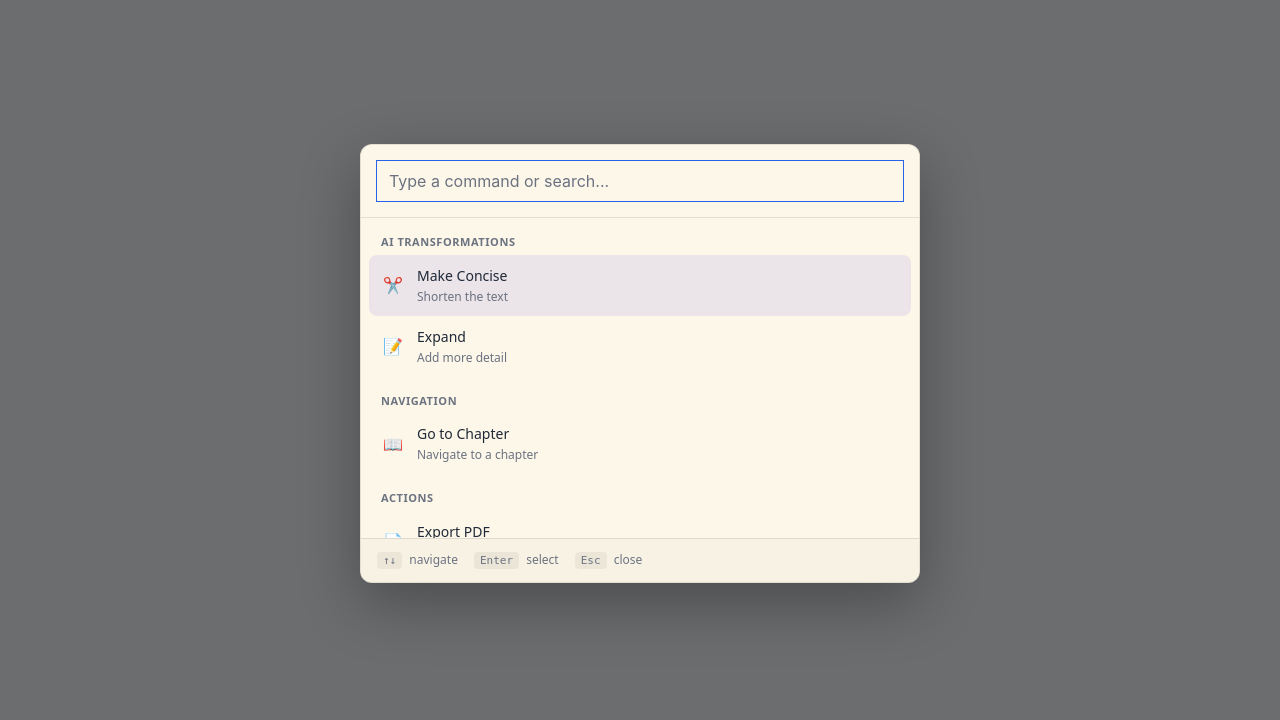
Scenario: CommandPalette › AC 5.2.5: Navigation Commands › shows chapters when searching for 'chapter'
The width and height of the screenshot is (1280, 720).
Type "chapter" into the dropdown with placeholder "Type a command or search...". click: {"x": 640, "y": 181}
box: [377,161,903,201]
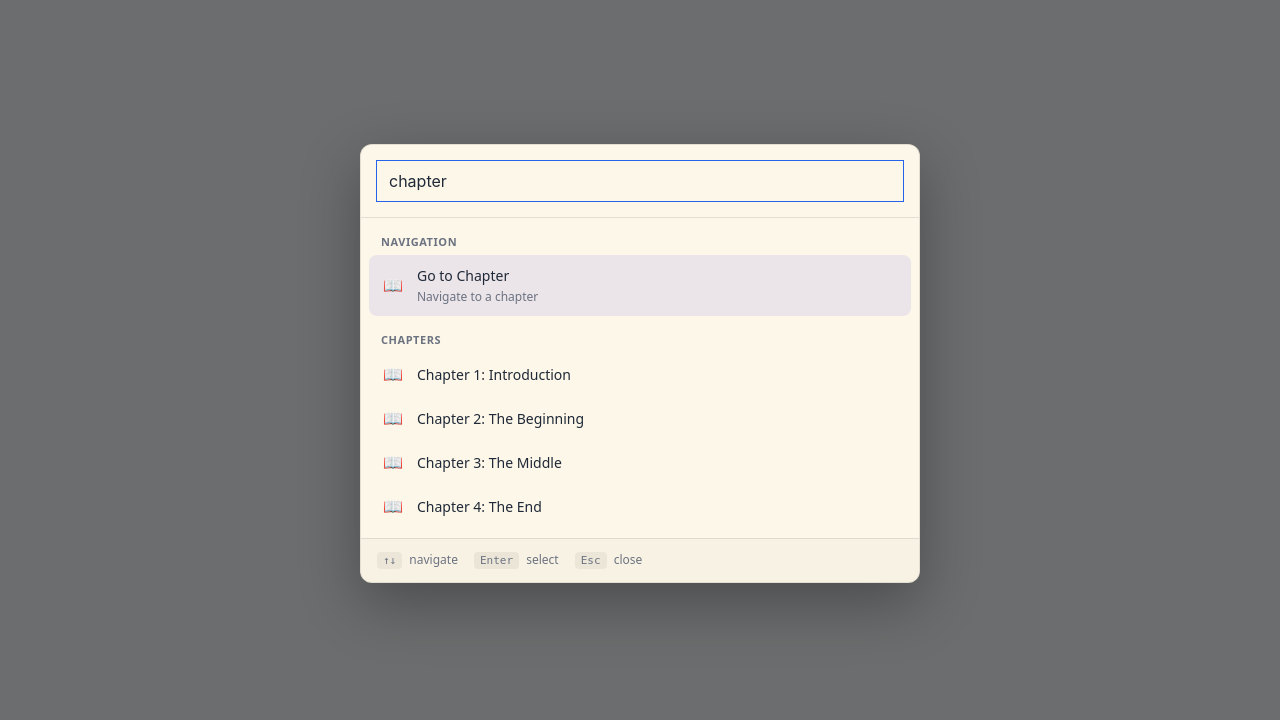
Result: the text "Chapter 1: Introduction" is shown at [417,364,571,384]
Result: the text "Chapter 2: The Beginning" is shown at [417,408,584,428]
